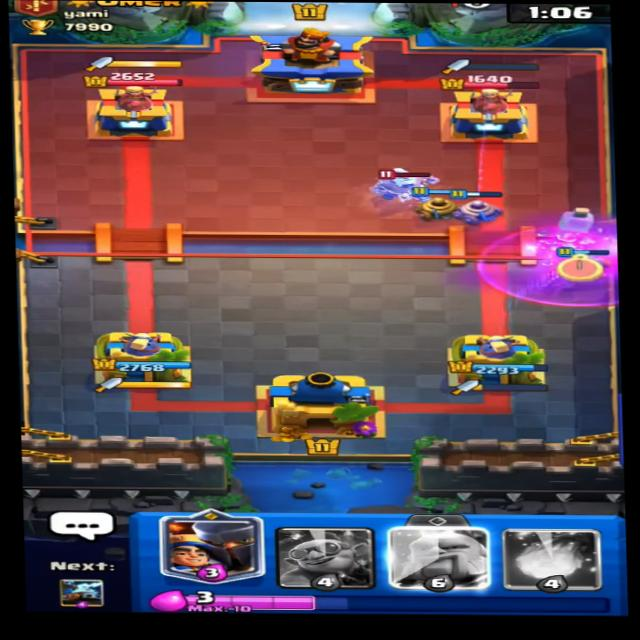Monk: (364, 166, 438, 206)
Rage: (474, 225, 634, 306)
